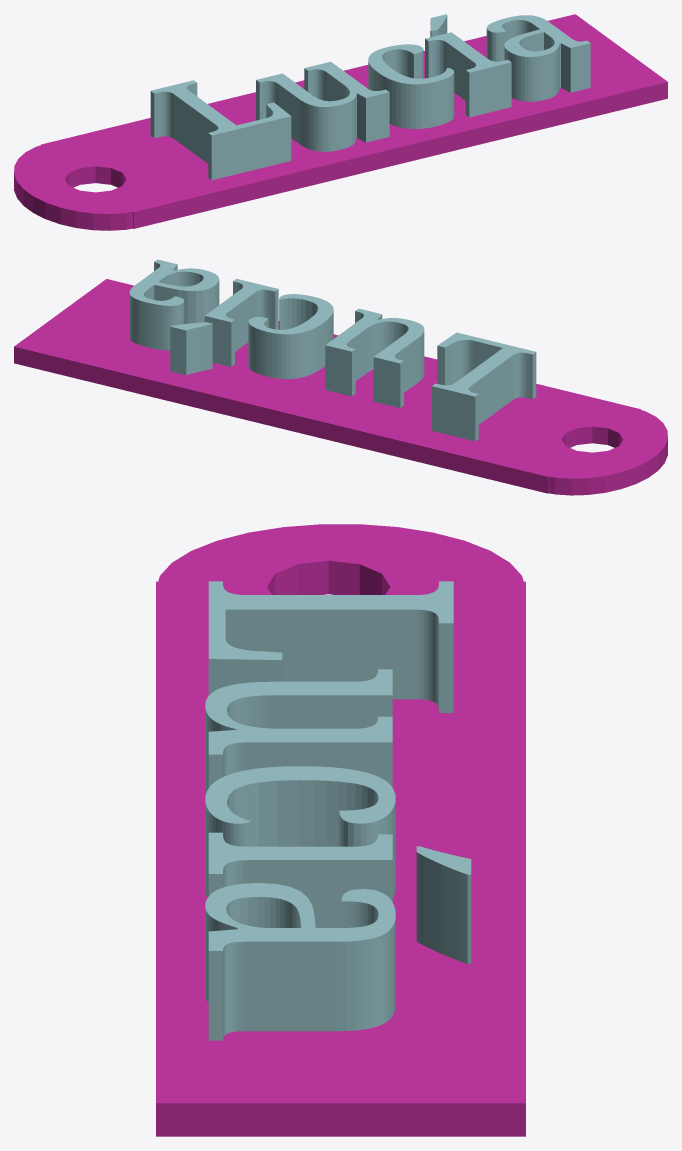
Rendered from asset.glb.
3 renders of one model, top to bottom at view 1: azimuth 30°, elevation 25°; view 2: azimuth 150°, elevation 25°; view 3: azimuth 270°, elevation 25°, orthographic. The views are drawn at different scales.
Parts seen in each view (by area): view 1: Mesh_Mesh_head_geo.001_lambert2SG.001; view 2: Mesh_Mesh_head_geo.001_lambert2SG.001; view 3: Mesh_Mesh_head_geo.001_lambert2SG.001.
Boxes of the visible parts, x1,y1,x2,y2 form: Mesh_Mesh_head_geo.001_lambert2SG.001: (14,14,667,230); Mesh_Mesh_head_geo.001_lambert2SG.001: (14,259,667,495); Mesh_Mesh_head_geo.001_lambert2SG.001: (156,524,525,1136).
Size of the model in its own units: 111 by 11 by 30.
